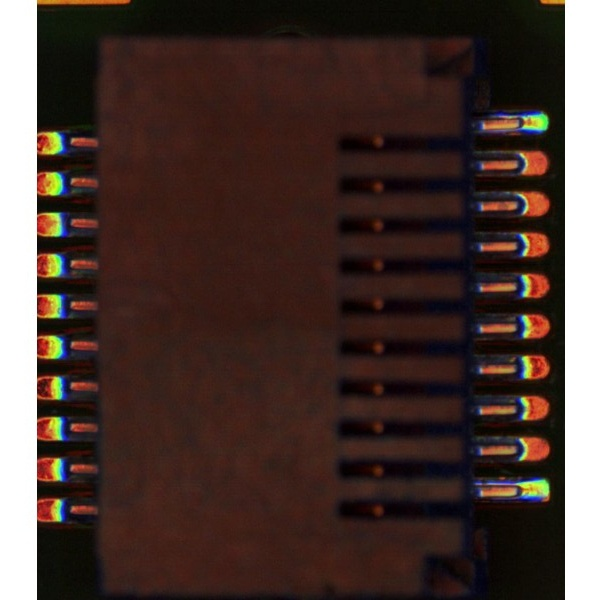Bad_qiaojiao: (473, 479, 514, 487), (482, 114, 519, 119)
